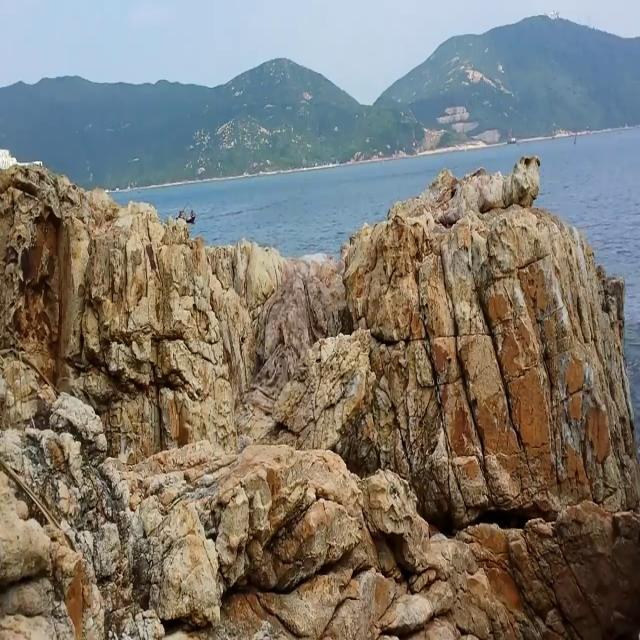Camouflage: (253, 265, 341, 396)
